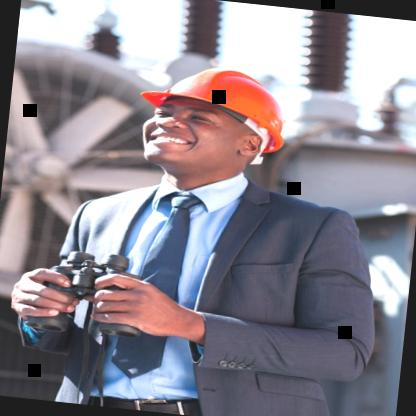helmet: (119, 44, 314, 193)
